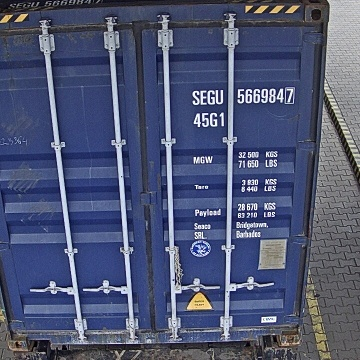serial_id: (192, 87, 294, 104)
